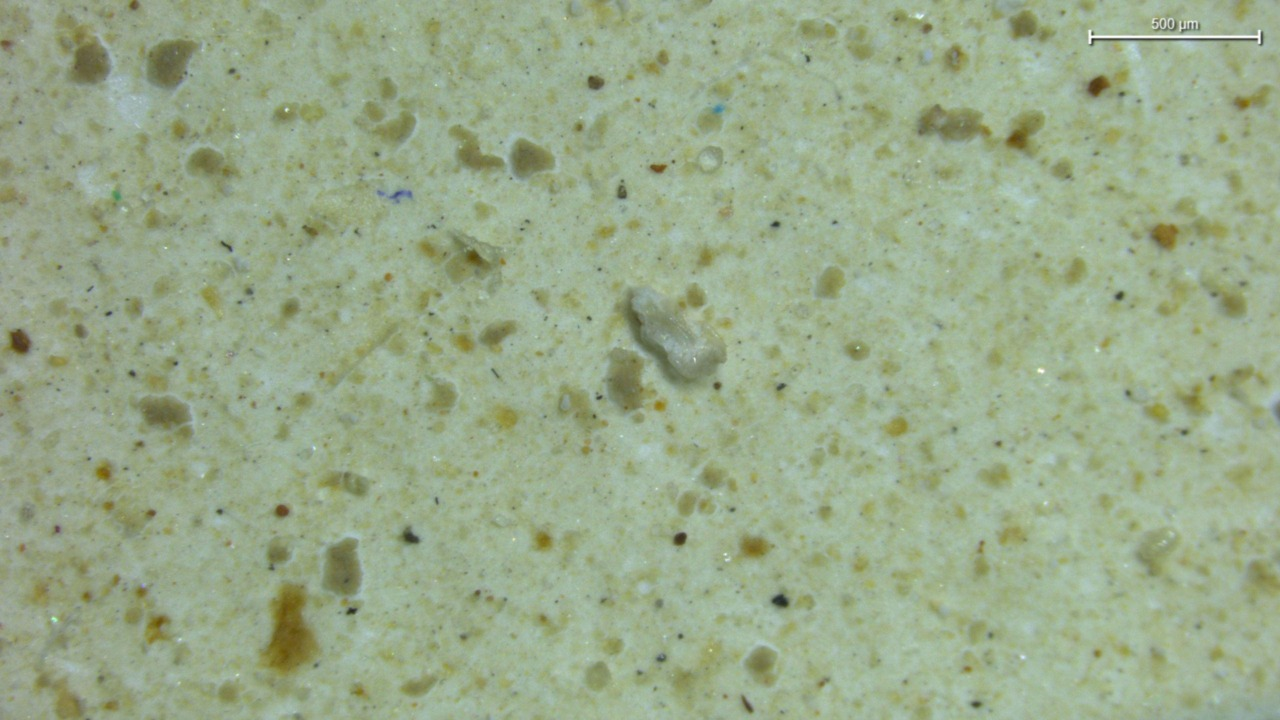microplastic_fragment: (629, 288, 726, 379)
